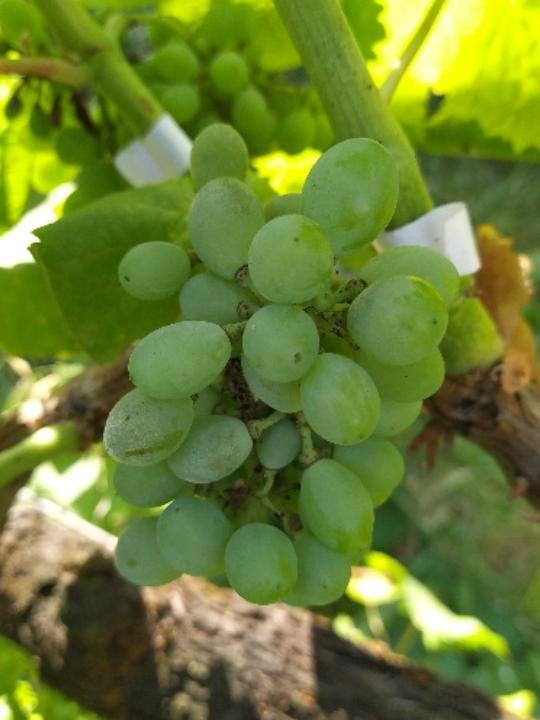grape: (99, 118, 469, 621)
